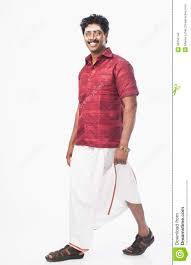Human: (51, 3, 158, 265)
